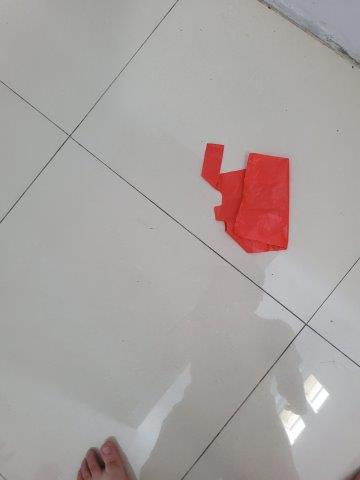plastik: (200, 146, 292, 252)
